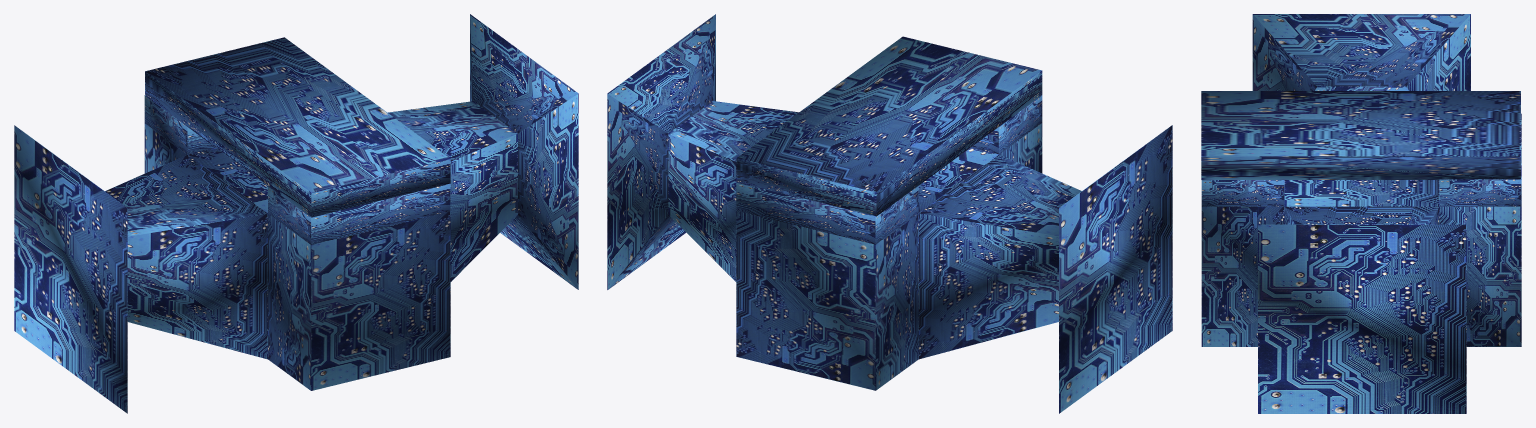
Rendered from shipparttex.fbx.
3 views of the same model, side by side, from view 1: azimuth 30°, elevation 25°; view 2: azimuth 150°, elevation 25°; view 3: azimuth 270°, elevation 25° (orthographic). The views are drawn at different scales.
Visible parts, largest first — view 1: Cube; view 2: Cube; view 3: Cube.
Boxes of the visible parts, box(x1,y1,x2,y2) form: Cube: box(14, 14, 578, 413); Cube: box(607, 14, 1172, 413); Cube: box(1201, 14, 1521, 413).
Size of the model in its own units: 650 by 285 by 414.
